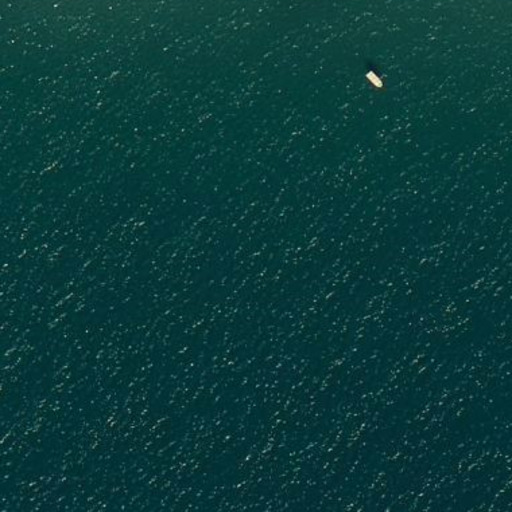ship: (363, 68, 384, 90)
